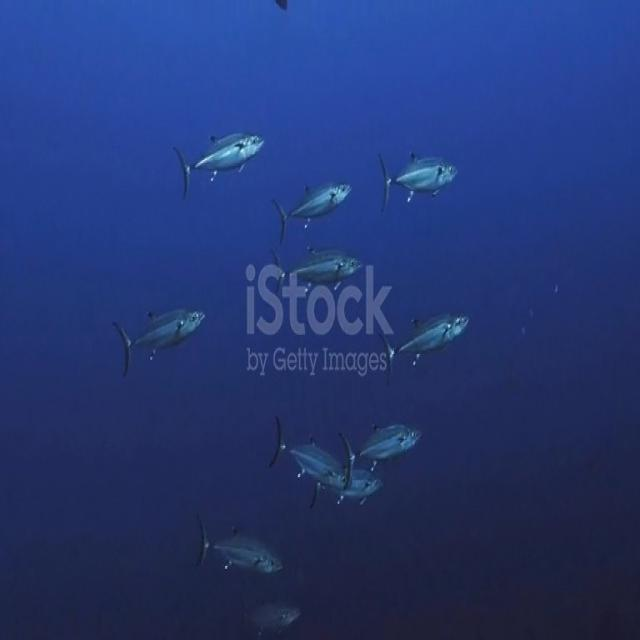fish: (194, 510, 286, 584), (381, 308, 472, 382), (174, 125, 267, 196), (114, 299, 208, 368), (341, 417, 429, 488), (274, 412, 342, 495), (272, 178, 360, 240), (380, 143, 464, 206), (314, 443, 386, 512), (268, 244, 364, 295), (237, 592, 312, 640)
